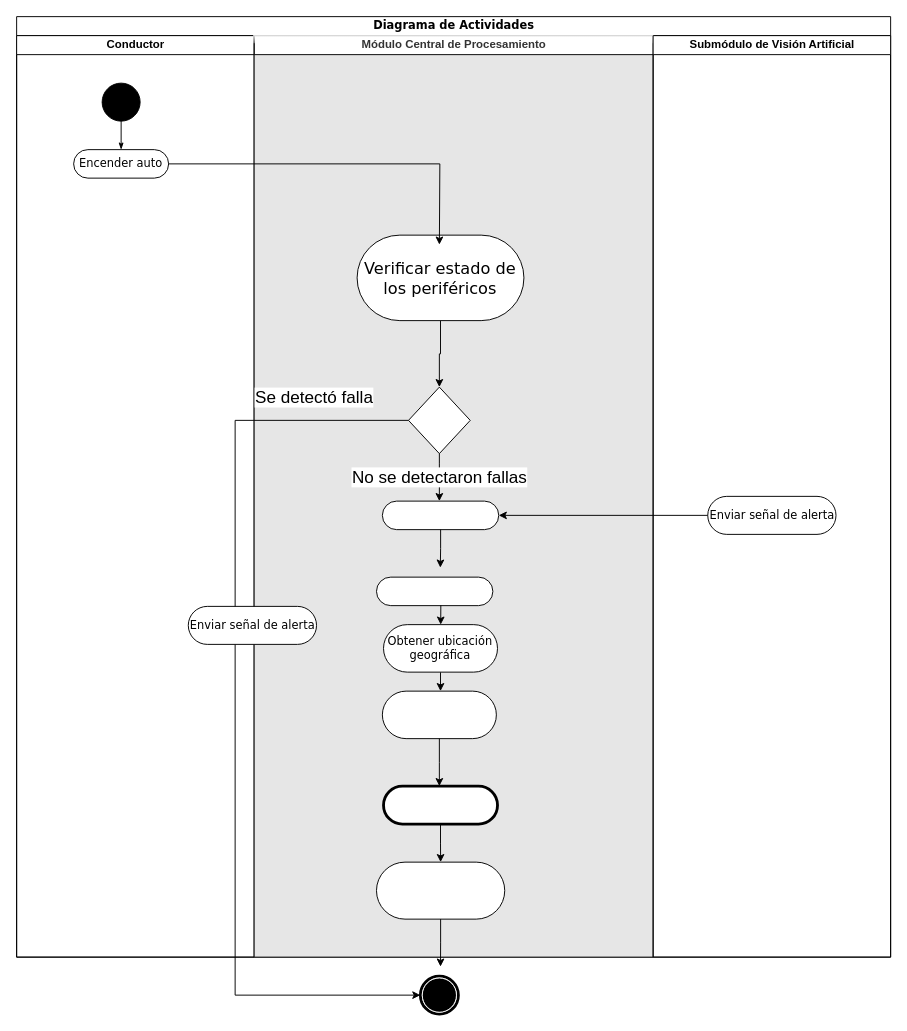
The diagram is 907 pixels wide and 1031 high, and some of its shapes have lost their labels. Here are the shapes that lost their labels. From the top down, the centre of each, then its label:
the point at 440,515: Requerir datos de incidencia
the point at 434,591: Activar alarma
the point at 438,714: Realizar reporte de incidencia
the point at 440,804: Enviar reporte de incidencia
the point at 440,890: Eliminar incidencia del almacenamiento externo
